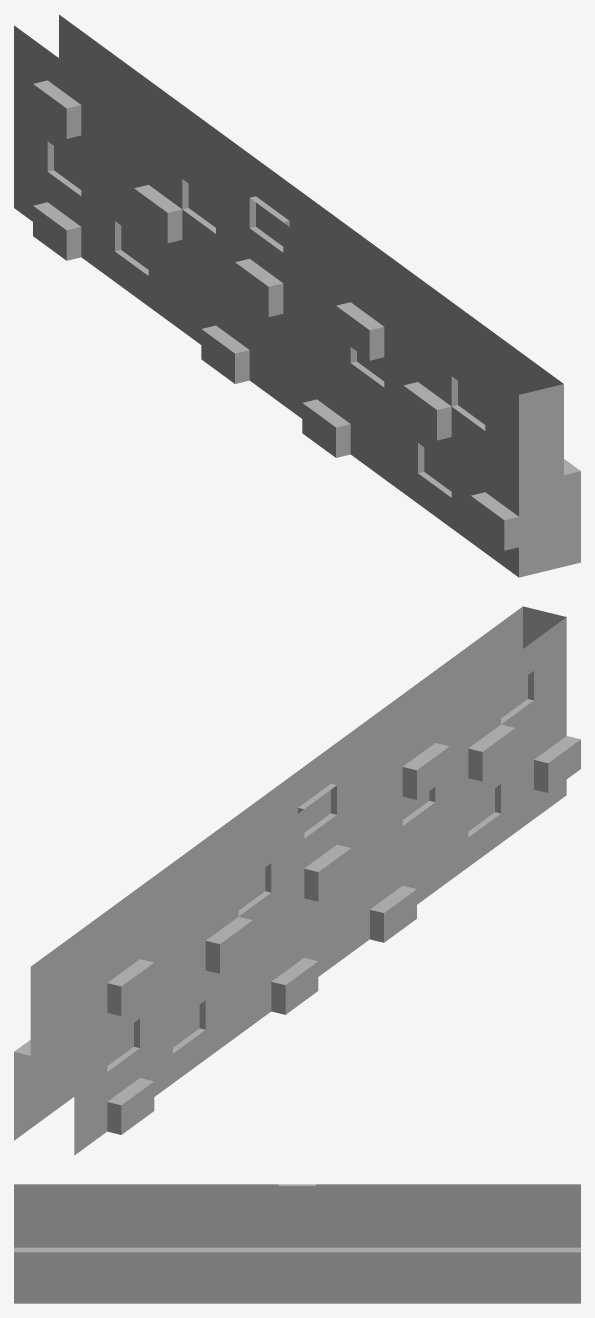
Rendered from level_begin.glb.
3 views of the same model, one above another, from view 1: azimuth 30°, elevation 25°; view 2: azimuth 150°, elevation 25°; view 3: azimuth 270°, elevation 25° (orthographic). The views are drawn at different scales.
Parts seen in each view (by area): view 1: Plane.058; view 2: Plane.058; view 3: Plane.058.
Boxes of the visible parts, x1,y1,x2,y2 form: Plane.058: (14, 14, 580, 577); Plane.058: (14, 606, 580, 1155); Plane.058: (14, 1184, 580, 1303).
Size of the model in its own units: 16.83 by 38.38 by 192.
Materials: 7 (7 with a texture image).
